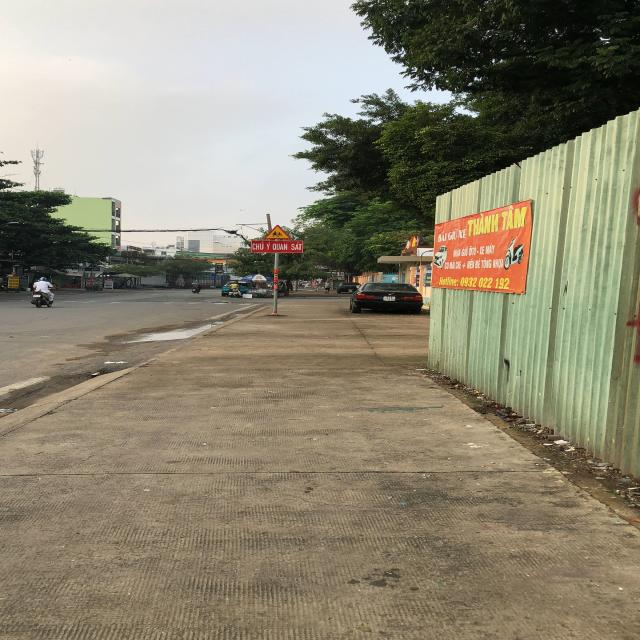Bien bao tre em: (261, 225, 296, 241)
